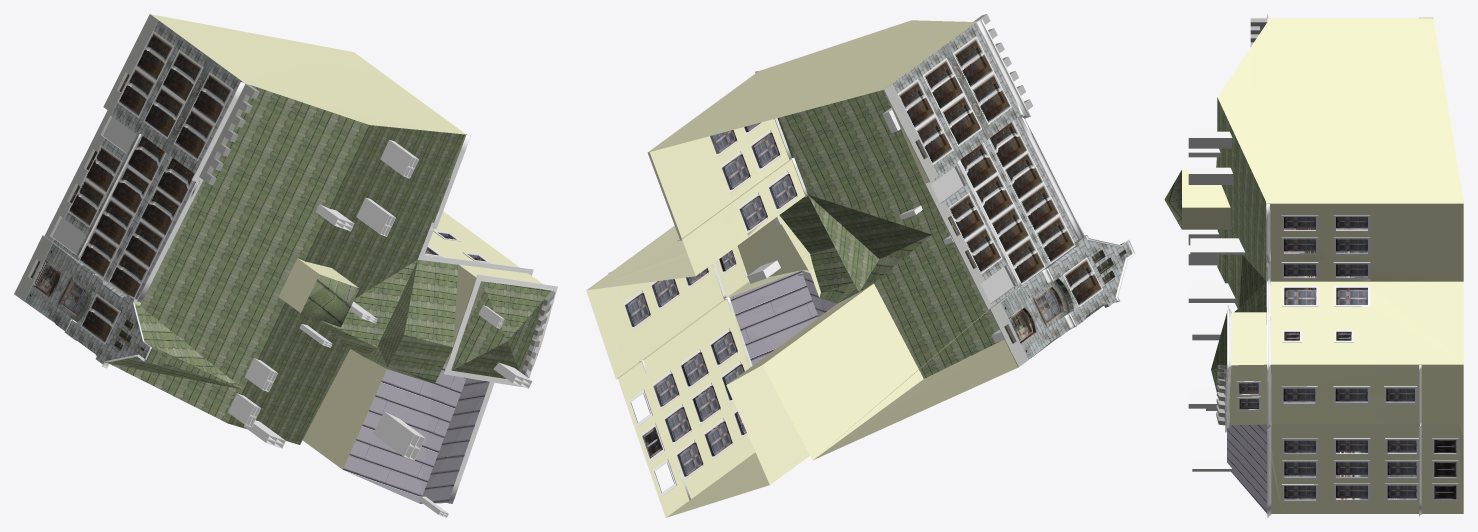
File: Pikk_52.obj
3 renders of one model, left to right at view 1: azimuth 30°, elevation 25°; view 2: azimuth 150°, elevation 25°; view 3: azimuth 270°, elevation 25°, orthographic. The views are drawn at different scales.
Visible parts, largest first — view 1: Box01; view 2: Box01; view 3: Box01.
Part boxes in pixels (x1,y1,x2,y2): Box01: (14, 14, 557, 517); Box01: (586, 14, 1135, 517); Box01: (1164, 14, 1463, 517).
Bounding box in the file's own units: 30.99 × 32.37 × 21.21.
